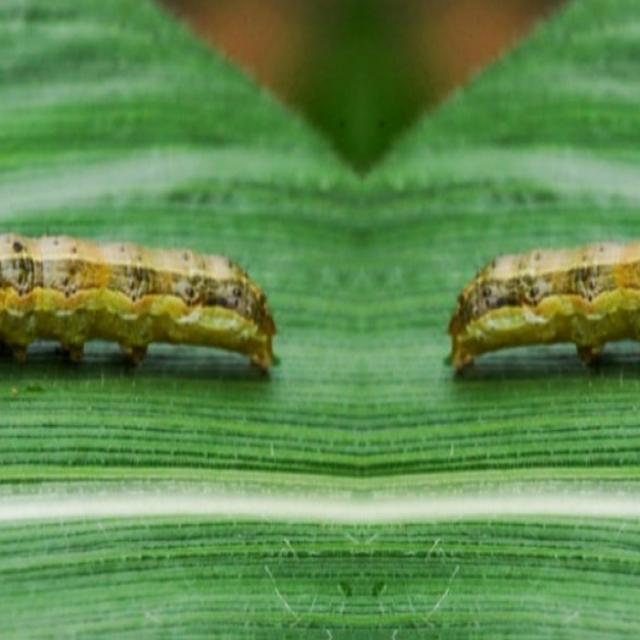armyworm: (0, 228, 278, 376), (444, 231, 639, 376)
